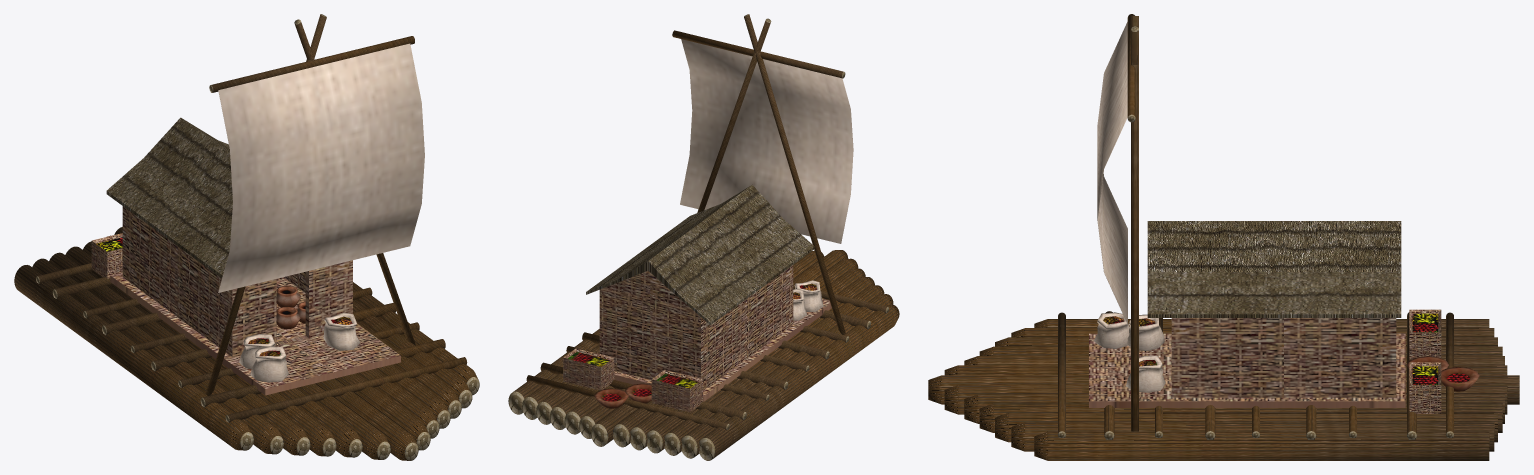
The model's file is inca_balsa_mercante.dae.
The picture shows the model from 3 angles, left to right: view 1: azimuth 30°, elevation 25°; view 2: azimuth 150°, elevation 25°; view 3: azimuth 270°, elevation 25°; orthographic projection. The views are drawn at different scales.
Parts seen in each view (by area): view 1: balsa_mercante; view 2: balsa_mercante; view 3: balsa_mercante.
Part boxes in pixels (box(x1,y1,x2,y2)): balsa_mercante: box(14, 14, 479, 460); balsa_mercante: box(508, 14, 899, 460); balsa_mercante: box(928, 14, 1519, 460).
Size of the model in its own units: 11.68 by 23.73 by 16.94.
